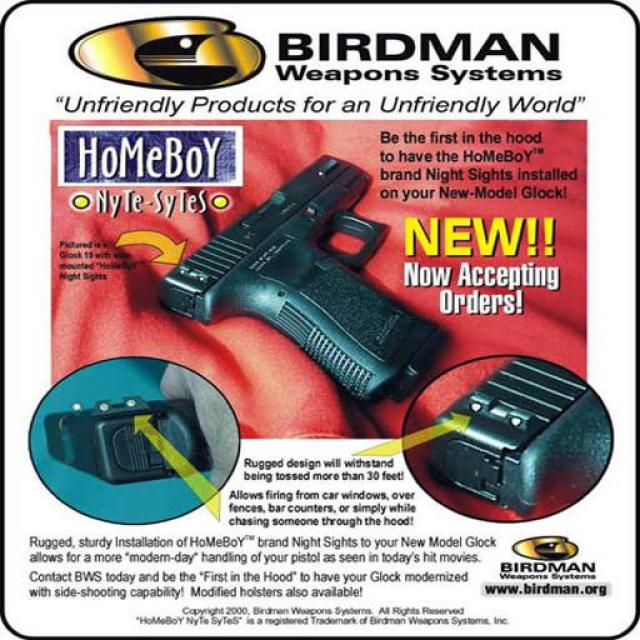pistol: (158, 149, 449, 405)
